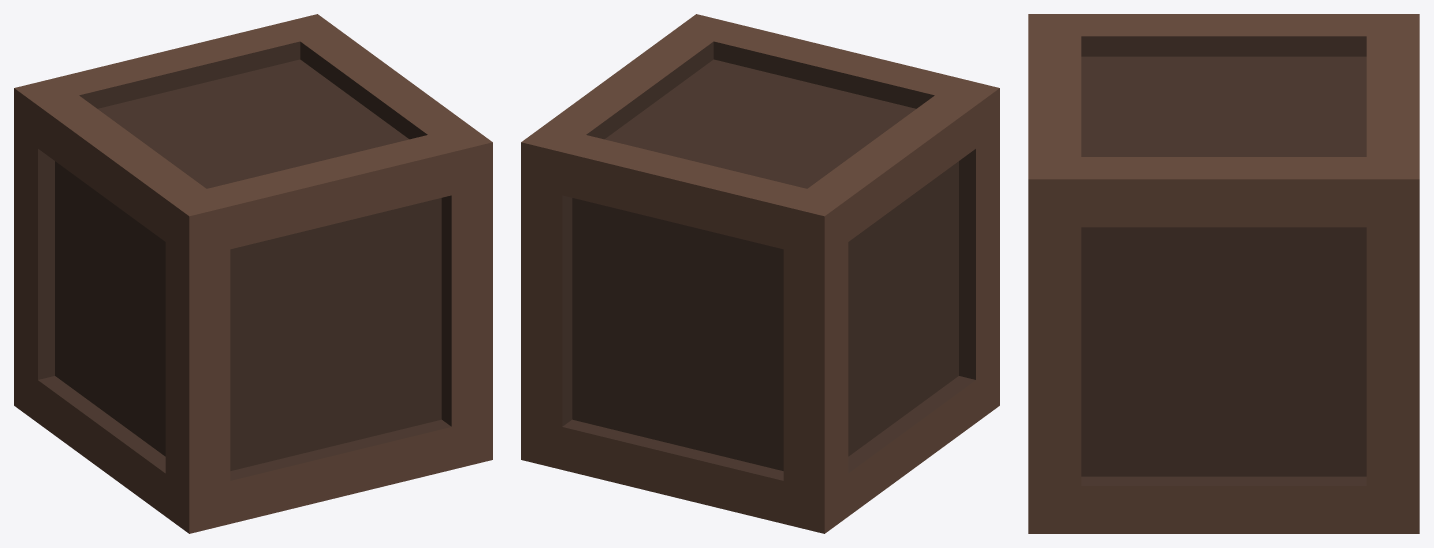
Rendered from Crate_001.glb.
The picture shows the model from 3 angles, left to right: view 1: azimuth 30°, elevation 25°; view 2: azimuth 150°, elevation 25°; view 3: azimuth 270°, elevation 25°; orthographic projection. The views are drawn at different scales.
Visible parts, largest first — view 1: Crate.001; view 2: Crate.001; view 3: Crate.001.
Boxes of the visible parts, x1,y1,x2,y2 form: Crate.001: (14, 14, 492, 533); Crate.001: (521, 14, 999, 533); Crate.001: (1028, 14, 1419, 533).
Size of the model in its own units: 2 by 2 by 2.
